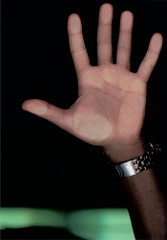palm: (76, 67, 144, 140)
